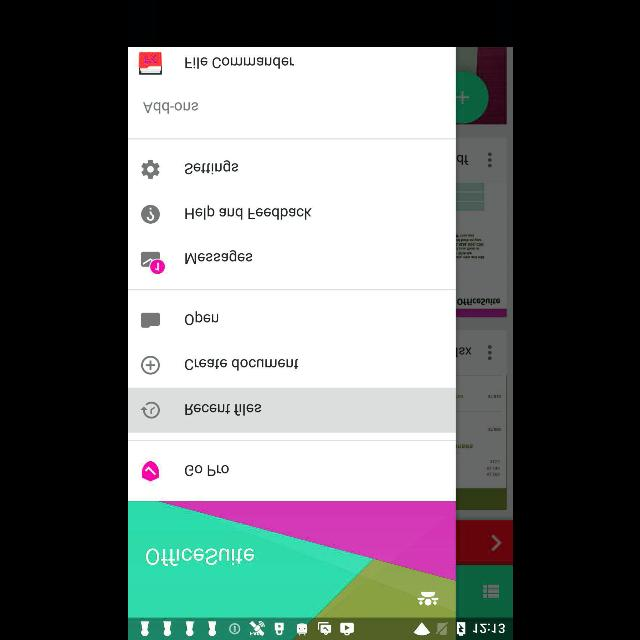icon: (141, 252, 165, 274), (140, 204, 160, 223), (140, 356, 160, 374), (141, 160, 159, 178), (140, 312, 160, 328), (139, 402, 159, 418), (416, 591, 438, 605)
image: (138, 52, 162, 76), (141, 461, 159, 482)
panel: (128, 47, 454, 617)
text: (144, 548, 253, 566), (185, 206, 312, 220), (184, 359, 298, 371), (184, 57, 294, 69), (184, 250, 252, 264), (184, 404, 260, 416), (184, 160, 238, 174), (142, 102, 198, 114), (184, 310, 218, 326), (184, 464, 228, 476)
uppertaskbar: (128, 617, 512, 639)
